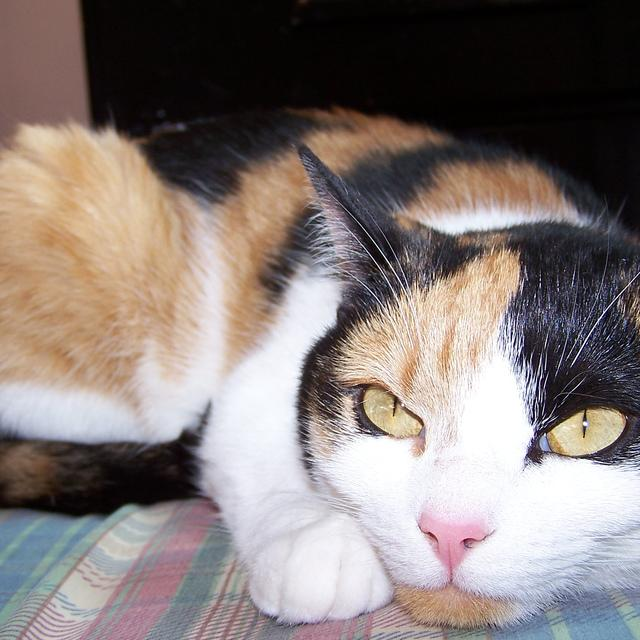animals: (295, 139, 640, 567)
